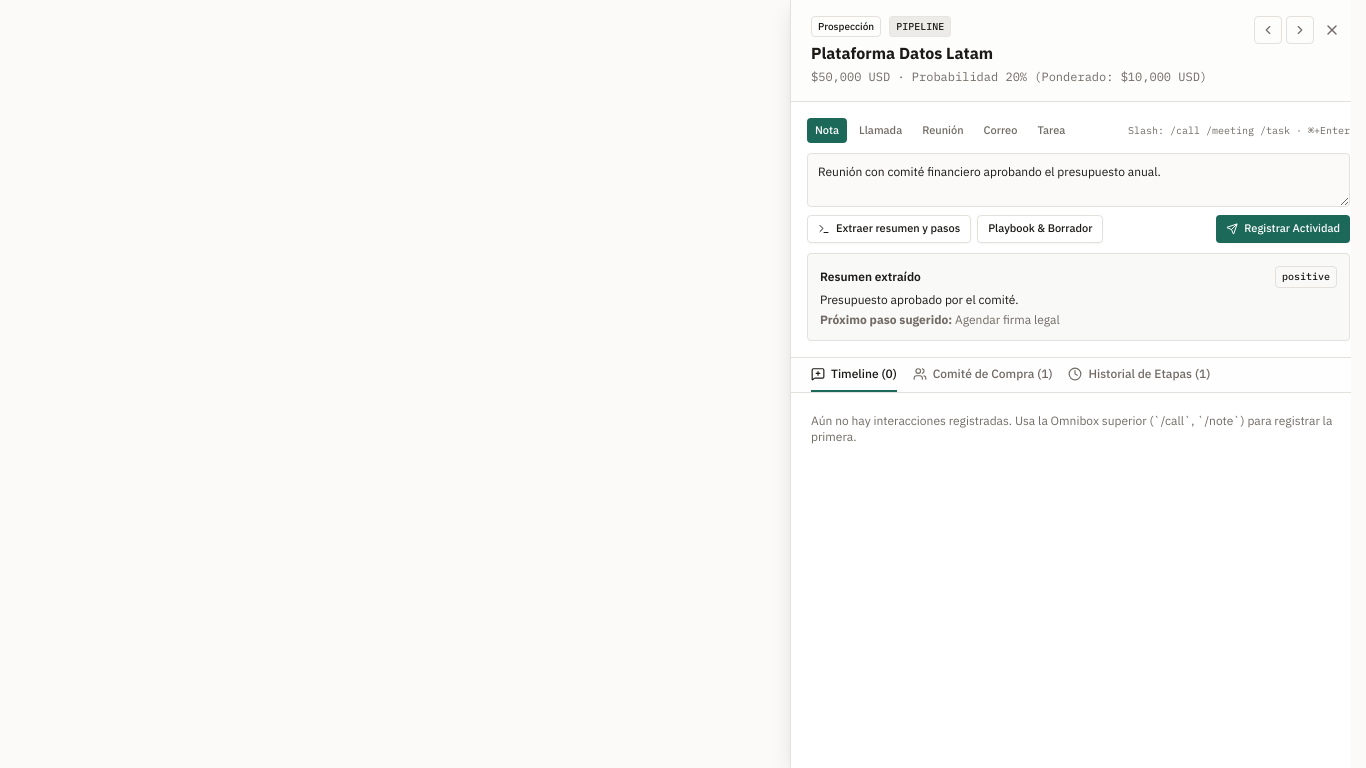
Test: Pipeline, Data Grid & Deal Peek Drawer Workflows › handles DealPeekDrawer Buying Committee, SCD2 Stage History tabs, and In-Place Copilot
Earlier steps of the test are not shown.
expect the text "Presupuesto aprobado por el comité." is shown: met, box top-left (820, 292), bottom-right (1018, 306)
Load Rep Playbook & insert follow-up email draft into Omnibox
Click the button "Playbook & Borrador": point(1040, 228) top-left (977, 214), bottom-right (1103, 242)
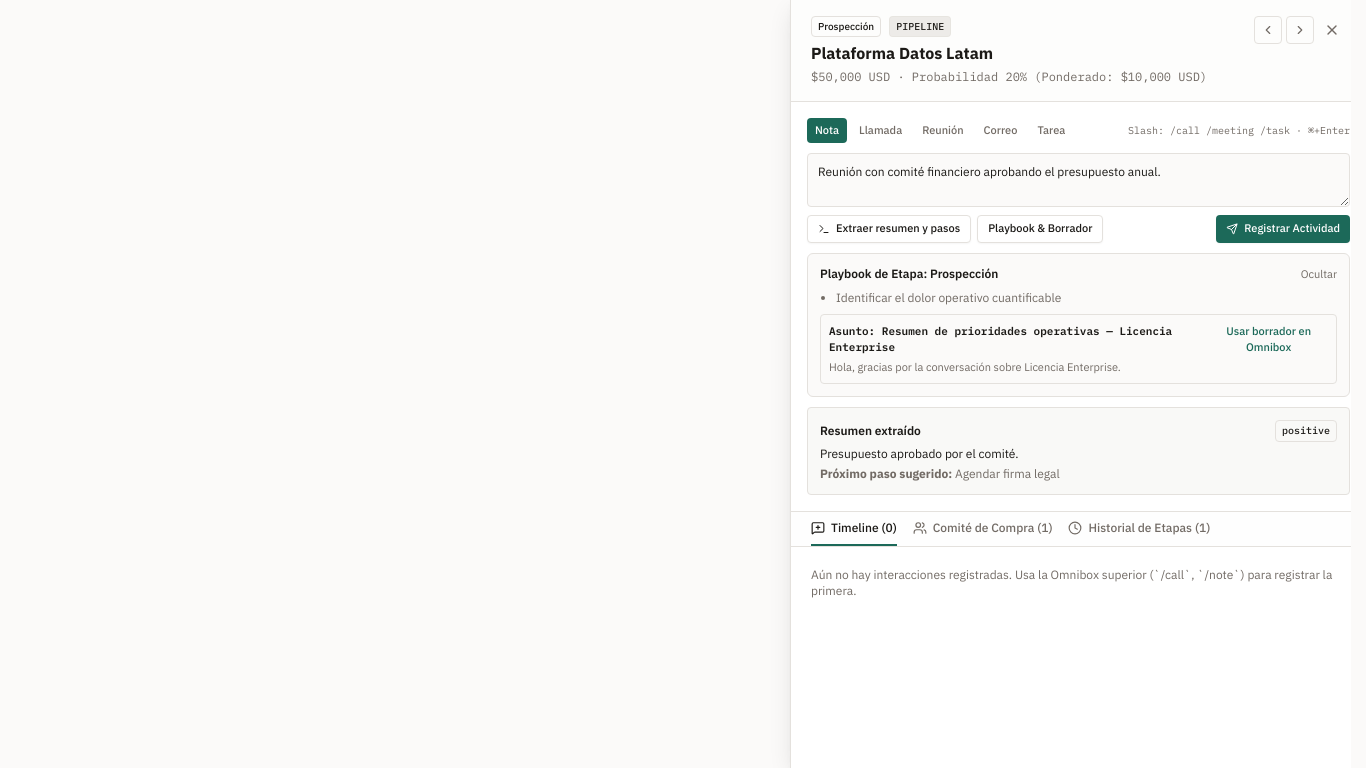
expect the list item "Identificar el dolor operativo cuantificable" is shown: met, box top-left (836, 290), bottom-right (1061, 304)
Click the button "Usar borrador en Omnibox": point(1269, 338) top-left (1209, 322), bottom-right (1328, 354)
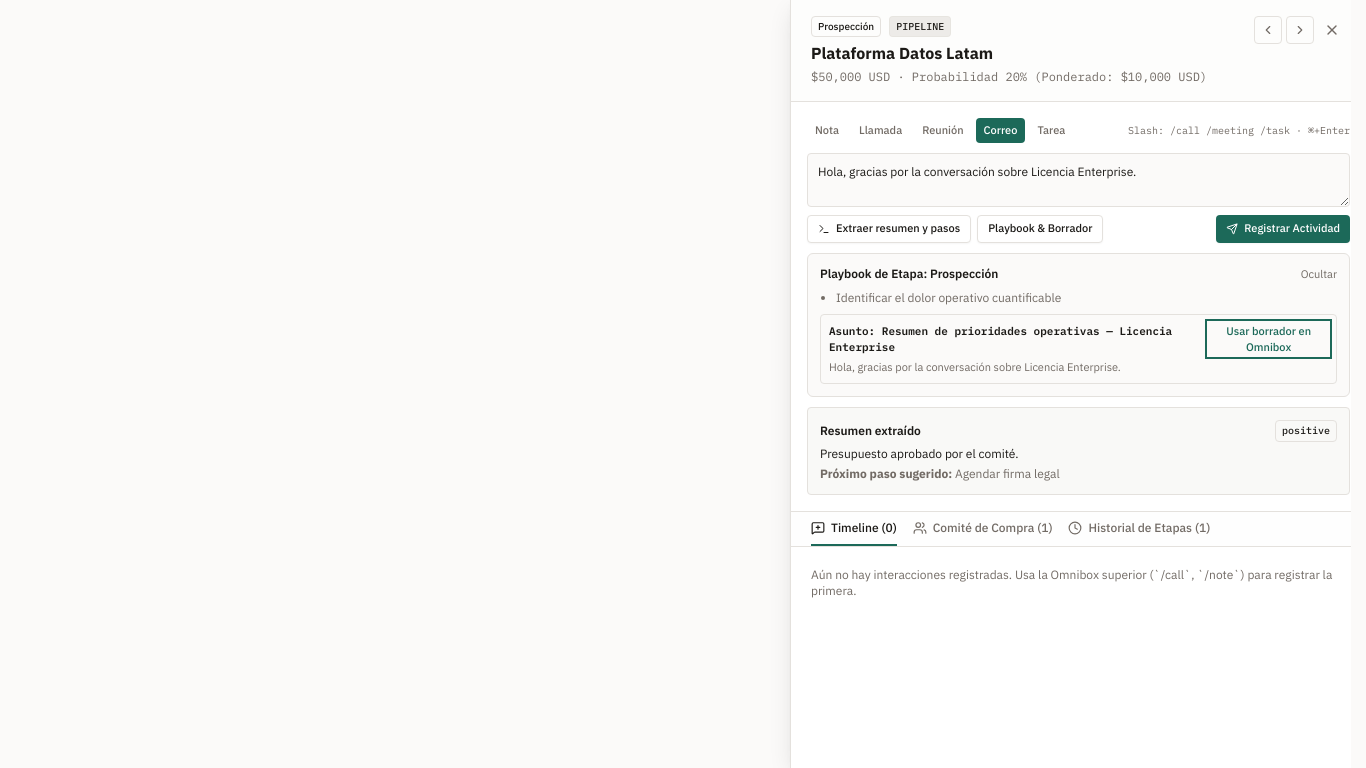
expect the text box with placeholder "Escribe una nota o usa /call" holds "Hola, gracias por la conversación sobre Licencia Enterprise.": met, box top-left (807, 152), bottom-right (1350, 206)
Click the button "Comité de Compra (1)": point(983, 532) top-left (913, 520), bottom-right (1052, 546)
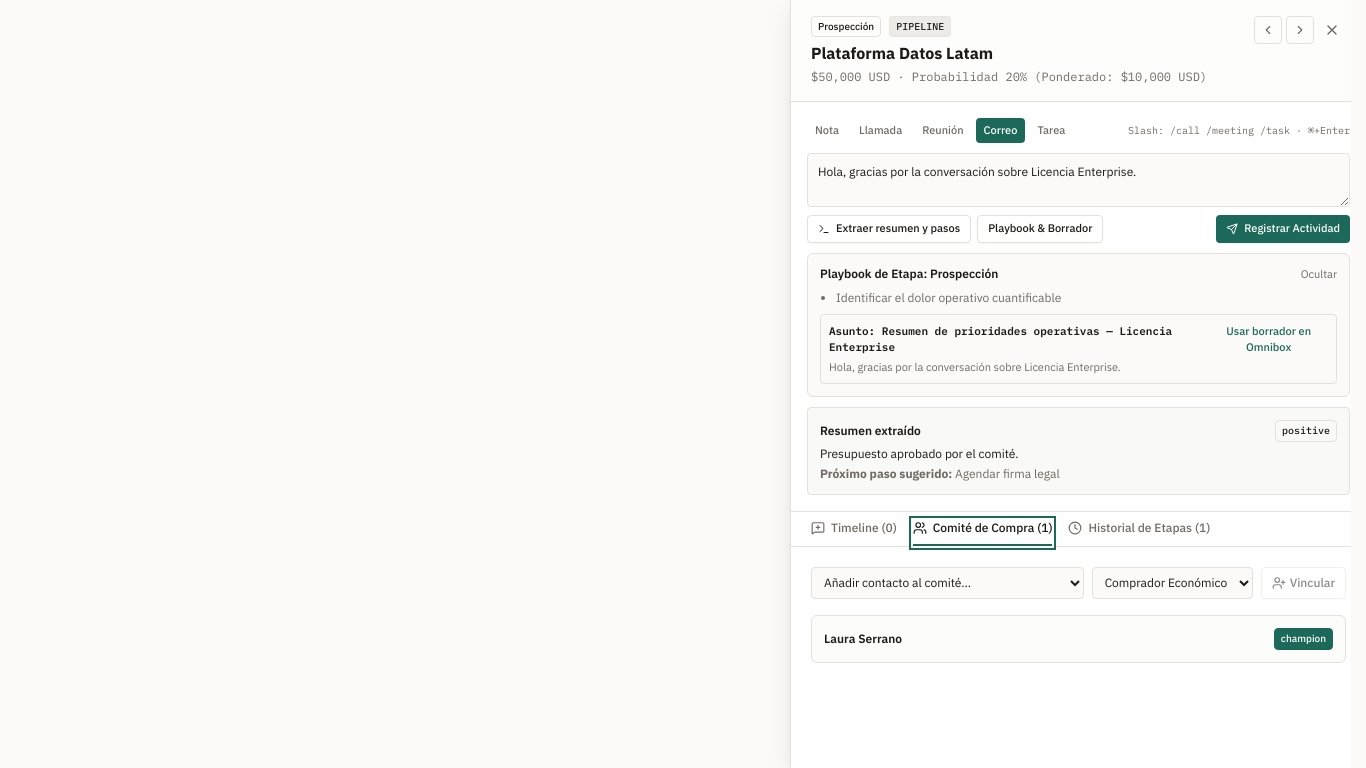
expect the text "Laura Serrano" is shown: met, box top-left (824, 630), bottom-right (902, 646)
Select "Mateo Vargas (mateo@nordic.io)" in the dropdown named "Seleccionar contacto para comité": point(947, 582) top-left (811, 566), bottom-right (1084, 598)
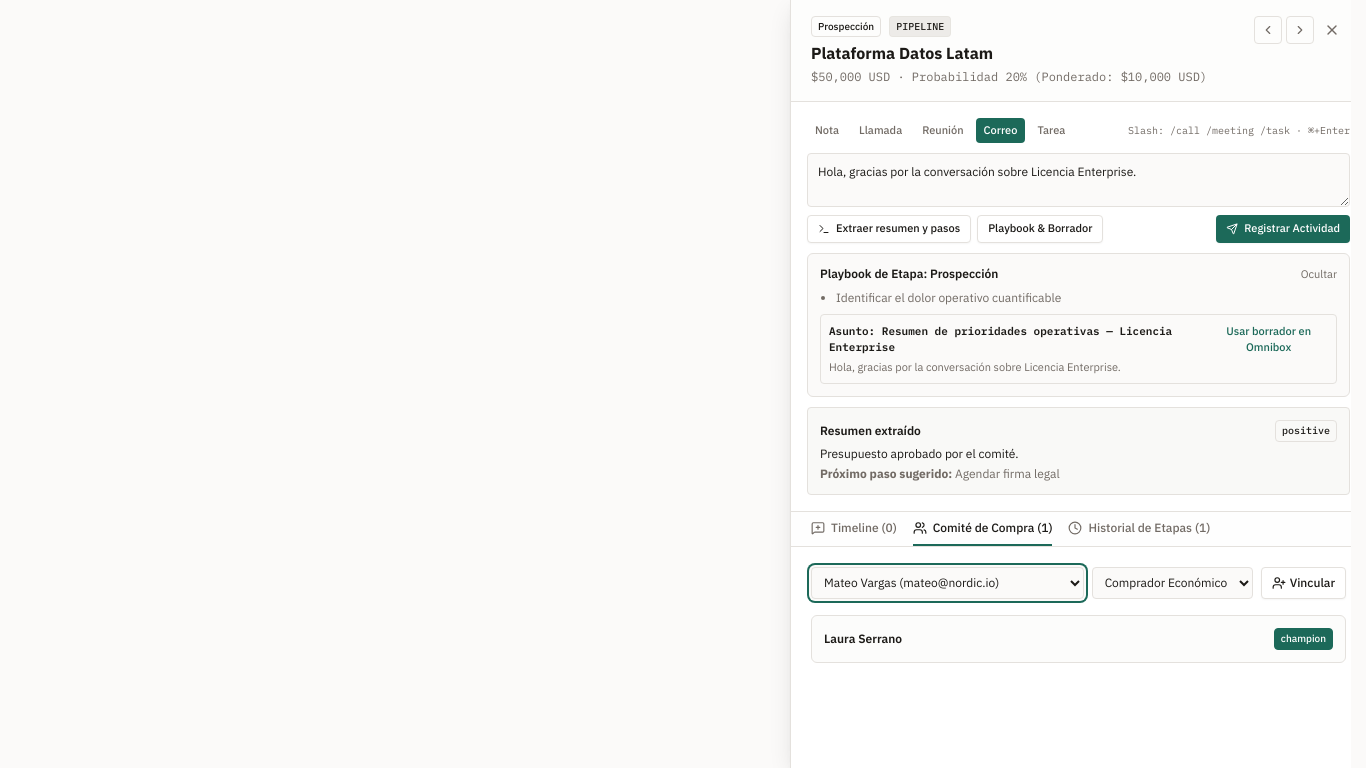
Click the button "Vincular": point(1303, 582) top-left (1261, 566), bottom-right (1346, 598)
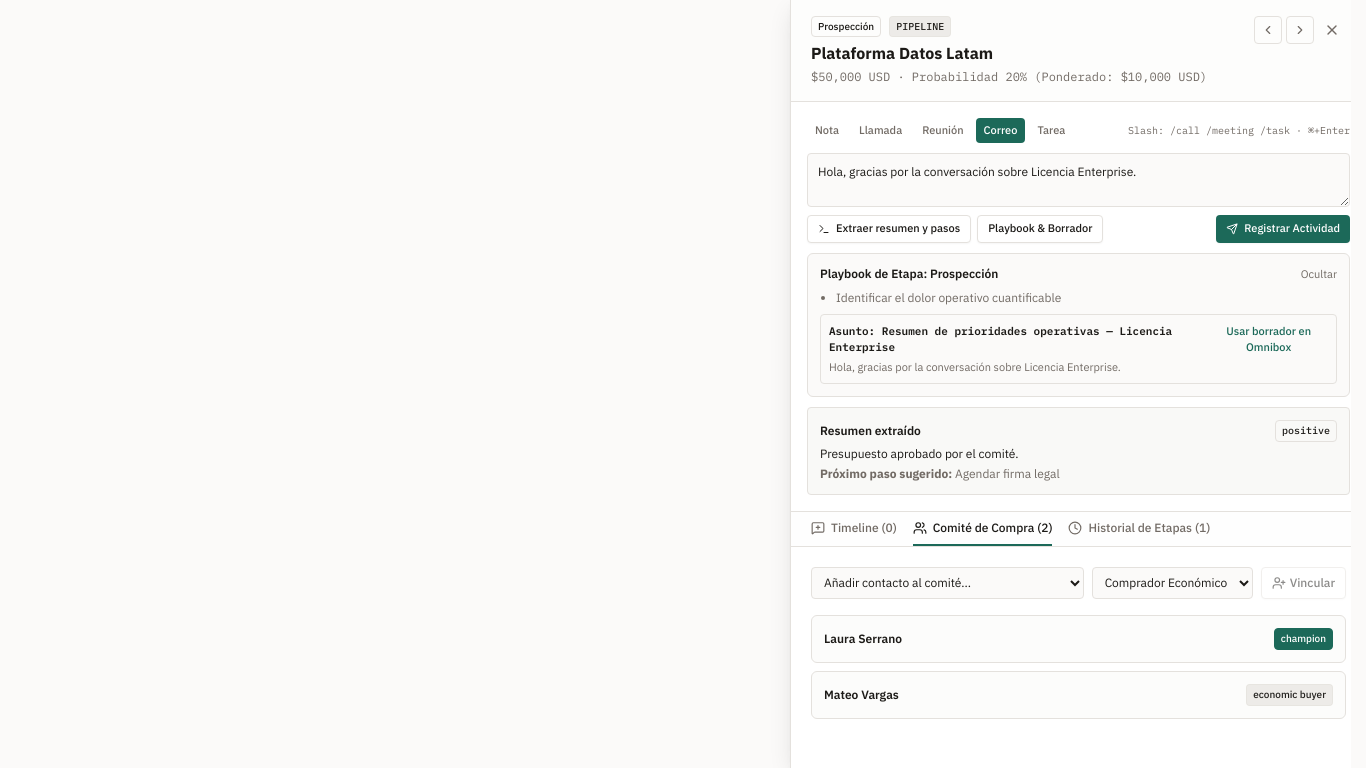
expect the text "Mateo Vargas" is shown: met, box top-left (824, 686), bottom-right (899, 702)
Switch to Stage History tab
Click the button "Historial de Etapas (1)": point(1139, 532) top-left (1068, 520), bottom-right (1210, 546)
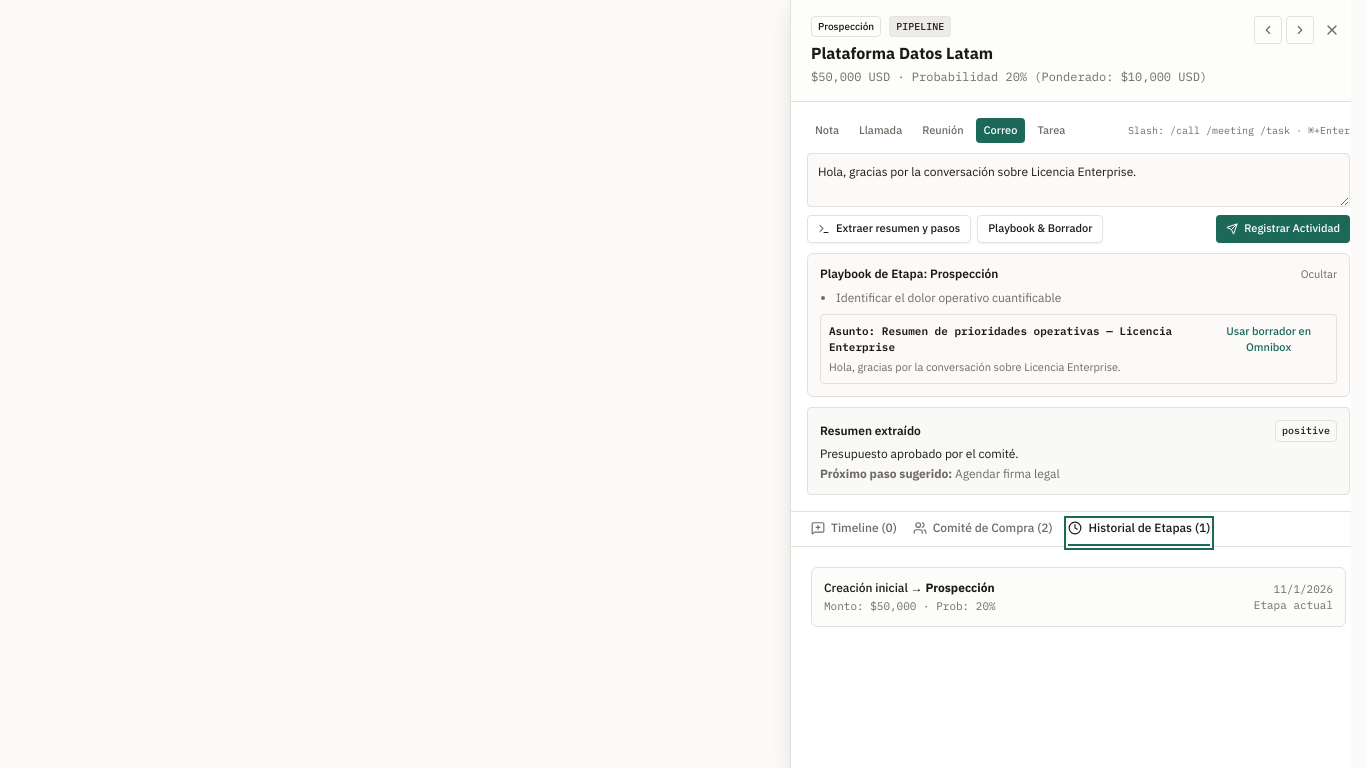
expect the text "Creación inicial → Prospección" is shown: met, box top-left (824, 580), bottom-right (996, 596)
